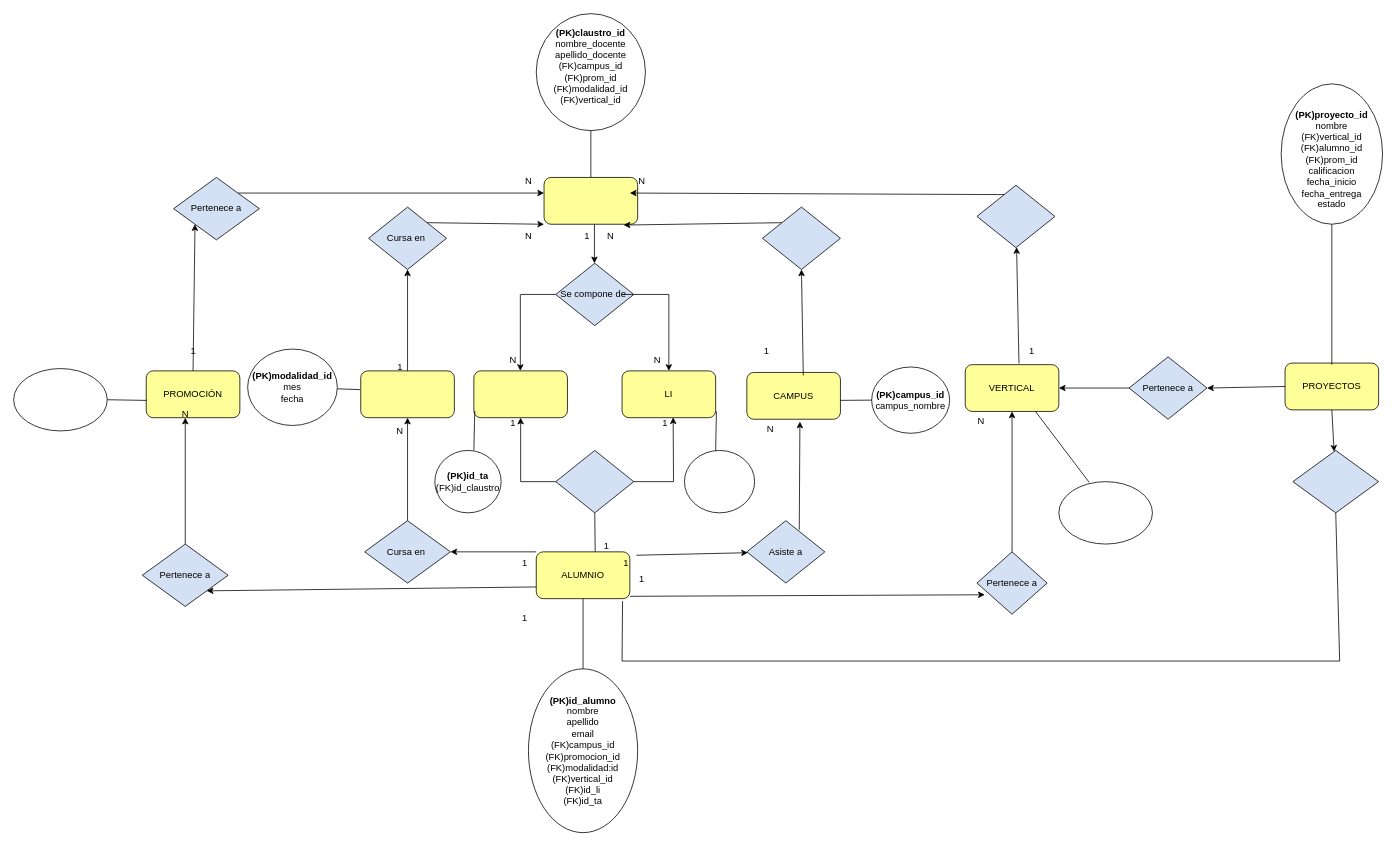
This 1396x846 diagram has some shape labels left out. The shapes that lost their labels are listed below. From the top down, each one's box as (x1, y1, x2, y2) in pixels, then its label:
(543, 177, 638, 224): CLAUSTRO
(976, 184, 1055, 248): Coordina
(762, 206, 840, 269): Enseña en
(13, 368, 107, 431): (PK)promocion_id nombre
(360, 370, 454, 418): MODALIDAD
(473, 370, 567, 418): TA
(555, 450, 634, 513): Dispone de
(684, 450, 755, 513): (PK)id_li (FK)id_claustro
(1292, 450, 1379, 513): Obtiene
(1058, 481, 1152, 544): (PK)vertical_id vertical_name
